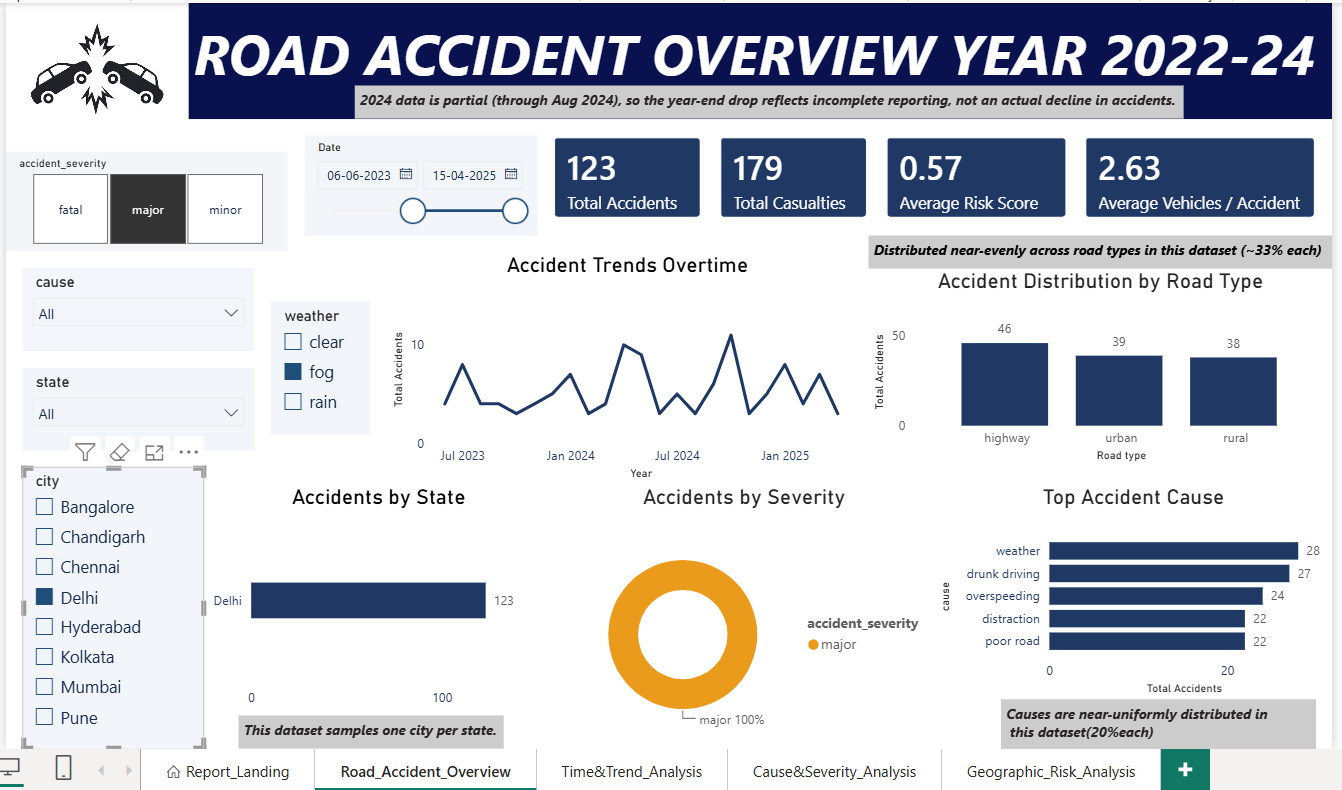

This screenshot's page, from the dashboard's own definition file:
{"tool":"powerbi","page":{"name":"Road_Accident_Overview","canvas":[1280,720],"ordinal":1},"visuals":[{"type":"cardVisual","fields":{"Data":["Measure.Total Accidents"]},"box":[512,112,176,112],"z":0},{"type":"cardVisual","fields":{"Data":["Measure.Average Vehicles per Accident"]},"box":[1024,112,256,112],"z":1000},{"type":"cardVisual","fields":{"Data":["Measure.Total Casualties"]},"box":[672,112,176,112],"z":2000},{"type":"cardVisual","fields":{"Data":["Measure.Average Risk Score"]},"box":[832,112,208,112],"z":3000},{"type":"lineChart","title":"Accident Trends Overtime","fields":{"Y":["Measure.Total Accidents"],"Category":["Date Table.Year-Month.Variation.Date Hierarchy.Year","Date Table.Year-Month.Variation.Date Hierarchy.Month"]},"box":[368,240,464,224],"z":4000},{"type":"clusteredBarChart","title":"Accidents by State","fields":{"Category":["Road Accidents.state"],"Y":["Measure.Total Accidents"]},"box":[192,464,336,224],"z":5000},{"type":"textbox","box":[224,688,256,32],"z":6000},{"type":"donutChart","title":"Accidents by Severity","fields":{"Category":["Road Accidents.accident_severity"],"Y":["Measure.Total Accidents"]},"box":[528,464,368,256],"z":7000},{"type":"clusteredBarChart","title":"Top Accident Cause","fields":{"Category":["Road Accidents.cause"],"Y":["Measure.Total Accidents"]},"box":[896,464,384,208],"z":8000},{"type":"textbox","box":[960,672,304,48],"z":9000},{"type":"clusteredColumnChart","title":"Accident Distribution by Road Type","fields":{"Category":["Road Accidents.road_type"],"Y":["Measure.Total Accidents"]},"box":[832,256,448,192],"z":10000},{"type":"textbox","box":[832,224,448,32],"z":11000},{"type":"slicer","fields":{"Values":["Date Table.Date"]},"box":[288,128,224,96],"z":12000},{"type":"slicer","fields":{"Values":["Road Accidents.state"]},"box":[16,352,224,80],"z":13000},{"type":"slicer","fields":{"Values":["Road Accidents.city"]},"box":[16,448,176,272],"z":14000},{"type":"slicer","fields":{"Values":["Road Accidents.accident_severity"]},"box":[0,144,272,96],"z":15000},{"type":"slicer","fields":{"Values":["Road Accidents.cause"]},"box":[16,256,224,80],"z":16000},{"type":"slicer","fields":{"Values":["Road Accidents.weather"]},"box":[256,288,96,128],"z":17000},{"type":"textbox","box":[176,0,1104,112],"z":18000},{"type":"image","box":[0,0,176,128],"z":19000},{"type":"textbox","box":[336,80,800,32],"z":20000}]}

Visuals, with their boxes on the page's 1280x720 design canvas (x1, y1, x2, y2). These are canvas units, not pixel positions in the 1342x790 screenshot, which may show the page scaled, cropped or inside an application window:
cardVisual - Measure.Total Accidents: l=512, t=112, r=688, b=224
cardVisual - Measure.Average Vehicles per Accident: l=1024, t=112, r=1280, b=224
cardVisual - Measure.Total Casualties: l=672, t=112, r=848, b=224
cardVisual - Measure.Average Risk Score: l=832, t=112, r=1040, b=224
"Accident Trends Overtime" lineChart: l=368, t=240, r=832, b=464
"Accidents by State" clusteredBarChart: l=192, t=464, r=528, b=688
textbox: l=224, t=688, r=480, b=720
"Accidents by Severity" donutChart: l=528, t=464, r=896, b=720
"Top Accident Cause" clusteredBarChart: l=896, t=464, r=1280, b=672
textbox: l=960, t=672, r=1264, b=720
"Accident Distribution by Road Type" clusteredColumnChart: l=832, t=256, r=1280, b=448
textbox: l=832, t=224, r=1280, b=256
slicer - Date Table.Date: l=288, t=128, r=512, b=224
slicer - Road Accidents.state: l=16, t=352, r=240, b=432
slicer - Road Accidents.city: l=16, t=448, r=192, b=720
slicer - Road Accidents.accident_severity: l=0, t=144, r=272, b=240
slicer - Road Accidents.cause: l=16, t=256, r=240, b=336
slicer - Road Accidents.weather: l=256, t=288, r=352, b=416
textbox: l=176, t=0, r=1280, b=112
image: l=0, t=0, r=176, b=128
textbox: l=336, t=80, r=1136, b=112
